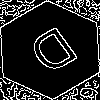D: (25, 25, 87, 84)
